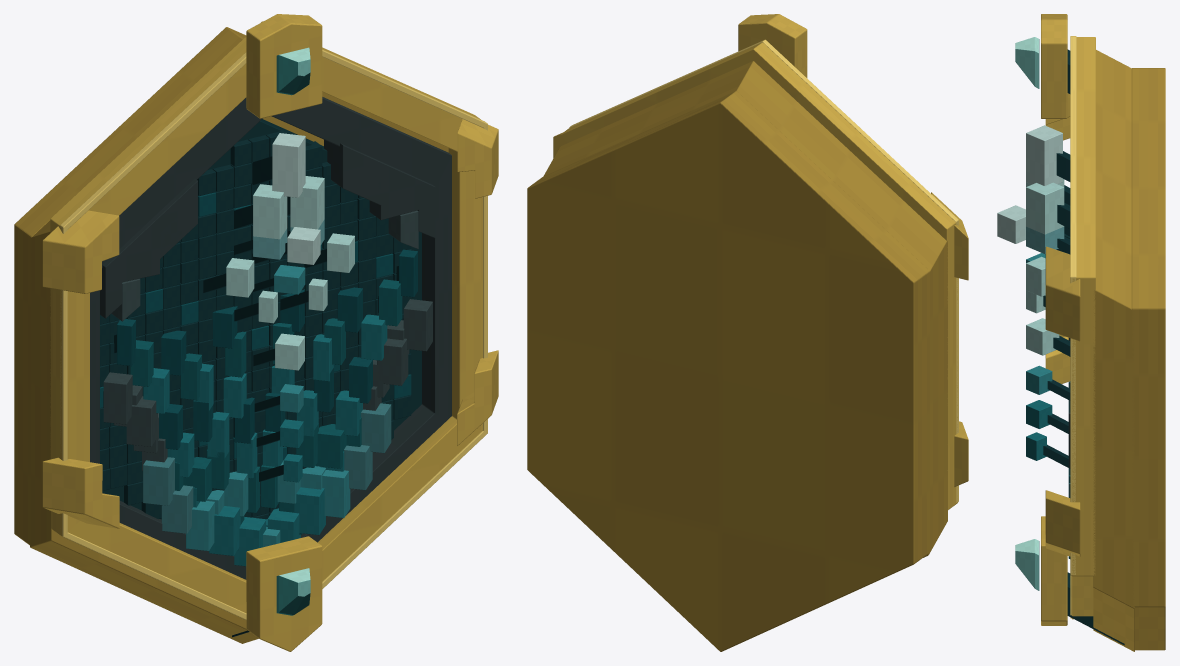
The model's file is SM_Blender_DeepDelverMark.glb.
The picture shows the model from 3 angles, left to right: view 1: azimuth 30°, elevation 25°; view 2: azimuth 150°, elevation 25°; view 3: azimuth 270°, elevation 25°; orthographic projection. The views are drawn at different scales.
Visible parts, largest first — view 1: SM_Blender_DeepDelverMark; view 2: SM_Blender_DeepDelverMark; view 3: SM_Blender_DeepDelverMark.
Boxes of the visible parts, box(x1,y1,x2,y2) form: SM_Blender_DeepDelverMark: box(14, 14, 498, 651); SM_Blender_DeepDelverMark: box(527, 14, 968, 651); SM_Blender_DeepDelverMark: box(997, 14, 1165, 651).
Bounding box in the file's own units: 0.9508 × 1.31 × 0.3158.
Materials: 3 (3 with a texture image).
